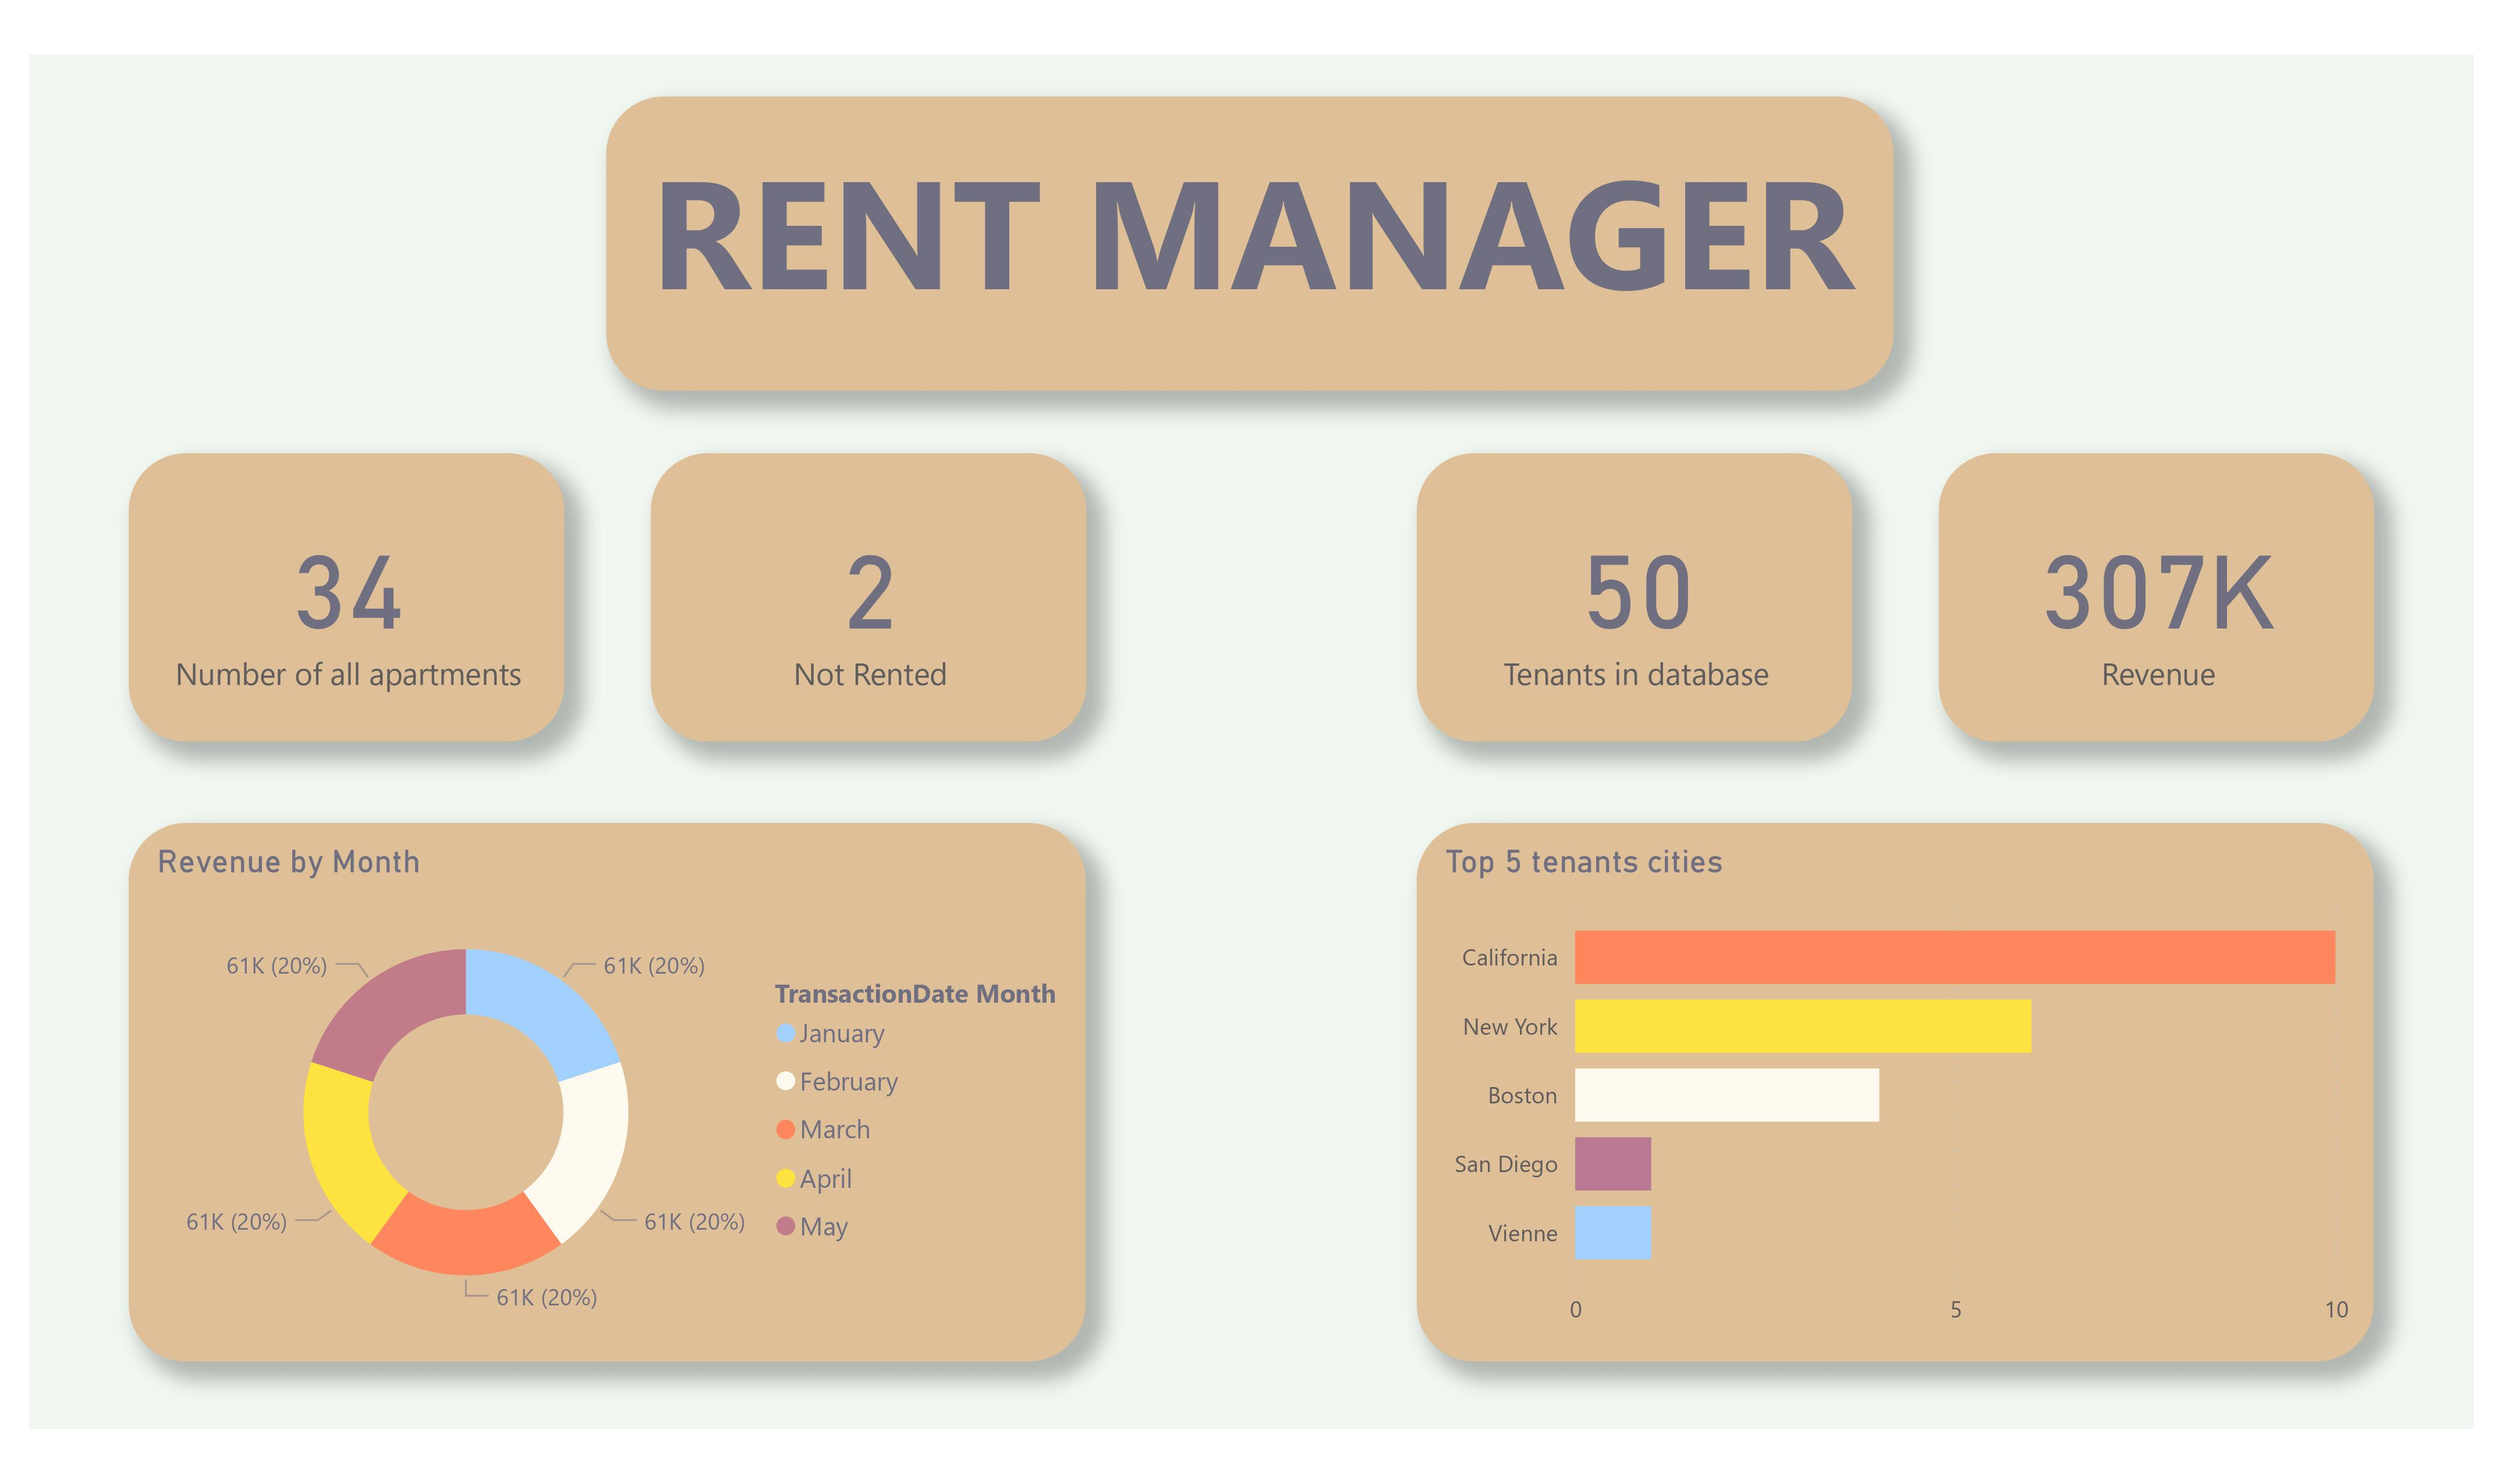

The dashboard page shown, as its layout file describes it:
{"tool":"powerbi","page":{"name":"Page 1","canvas":[1280,720],"ordinal":0},"visuals":[{"type":"textbox","box":[344.7,20.6,760.9,149.7],"z":0},{"type":"image","box":[201.9,0,142.8,149.7],"z":1},{"type":"card","fields":{"Values":["rent property.Measure"]},"box":[71.4,185.4,228,151.1],"z":2},{"type":"card","fields":{"Values":["Not Rented.Measure"]},"box":[344.7,185.4,228,151.1],"z":3},{"type":"card","fields":{"Values":["rent tenant.Number of tenants"]},"box":[624.9,185.4,228,151.1],"z":4},{"type":"donutChart","fields":{"Category":["rent transactions.TransactionDate.Variation.Date Hierarchy.Month"],"Y":["Sum(rent transactions.Amount)"]},"box":[71.4,401,501.3,281.5],"z":5},{"type":"card","fields":{"Values":["Sum(rent transactions.Amount)"]},"box":[891.3,185.4,348.8,151.1],"z":6},{"type":"map","fields":{"Category":["rent tenant.City"]},"box":[651,401,589.2,281.5],"z":7}]}

Visuals, with their boxes in screenshot pixels (x1, y1, x2, y2):
textbox: Rect(652, 86, 2119, 374)
image: Rect(376, 45, 652, 334)
card - rent property.Measure: Rect(125, 403, 564, 694)
card - Not Rented.Measure: Rect(652, 403, 1091, 694)
card - rent tenant.Number of tenants: Rect(1192, 403, 1632, 694)
donutChart - rent transactions.TransactionDate.Variation.Date Hierarchy.Month x Sum(rent transactions.Amount): Rect(125, 819, 1091, 1361)
card - Sum(rent transactions.Amount): Rect(1706, 403, 2378, 694)
map - rent tenant.City: Rect(1242, 819, 2378, 1361)
